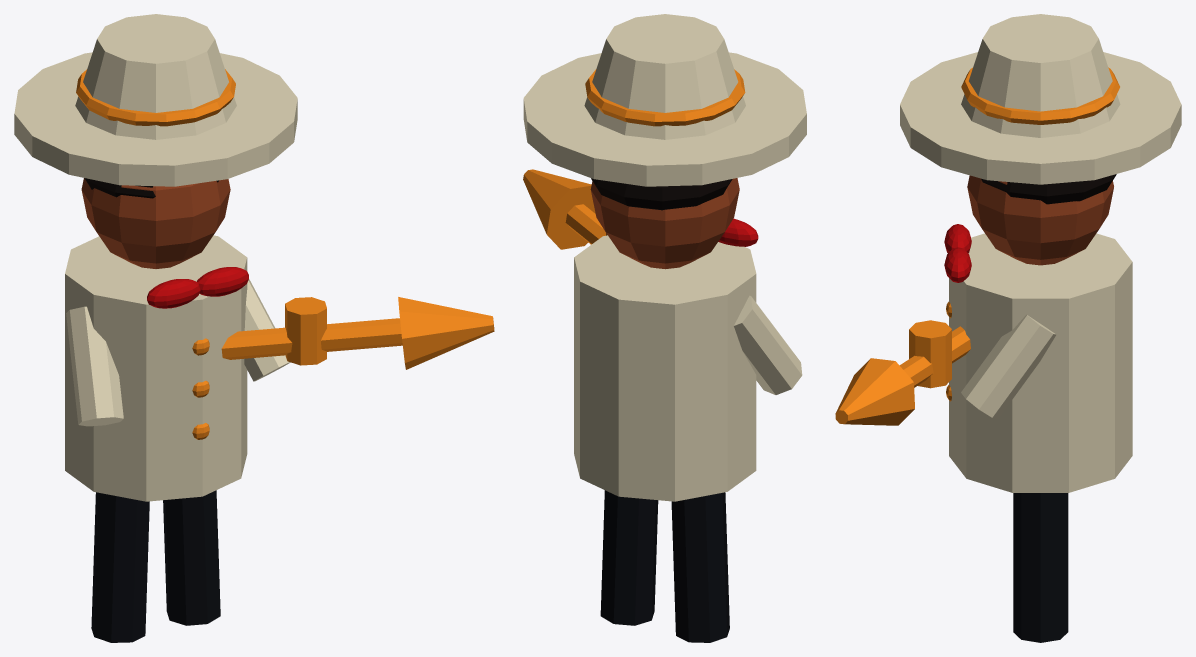
Rendered from mariachi_trompeta.obj.
The picture shows the model from 3 angles, left to right: view 1: azimuth 30°, elevation 25°; view 2: azimuth 150°, elevation 25°; view 3: azimuth 270°, elevation 25°; orthographic projection.
Parts seen in each view (by area): view 1: mariachi_trompeta; view 2: mariachi_trompeta; view 3: mariachi_trompeta.
Part boxes in pixels (x1,y1,x2,y2): mariachi_trompeta: (14, 14, 494, 642); mariachi_trompeta: (523, 14, 806, 642); mariachi_trompeta: (835, 14, 1181, 642).
Size of the model in its own units: 1.35 by 2.08 by 1.13.
